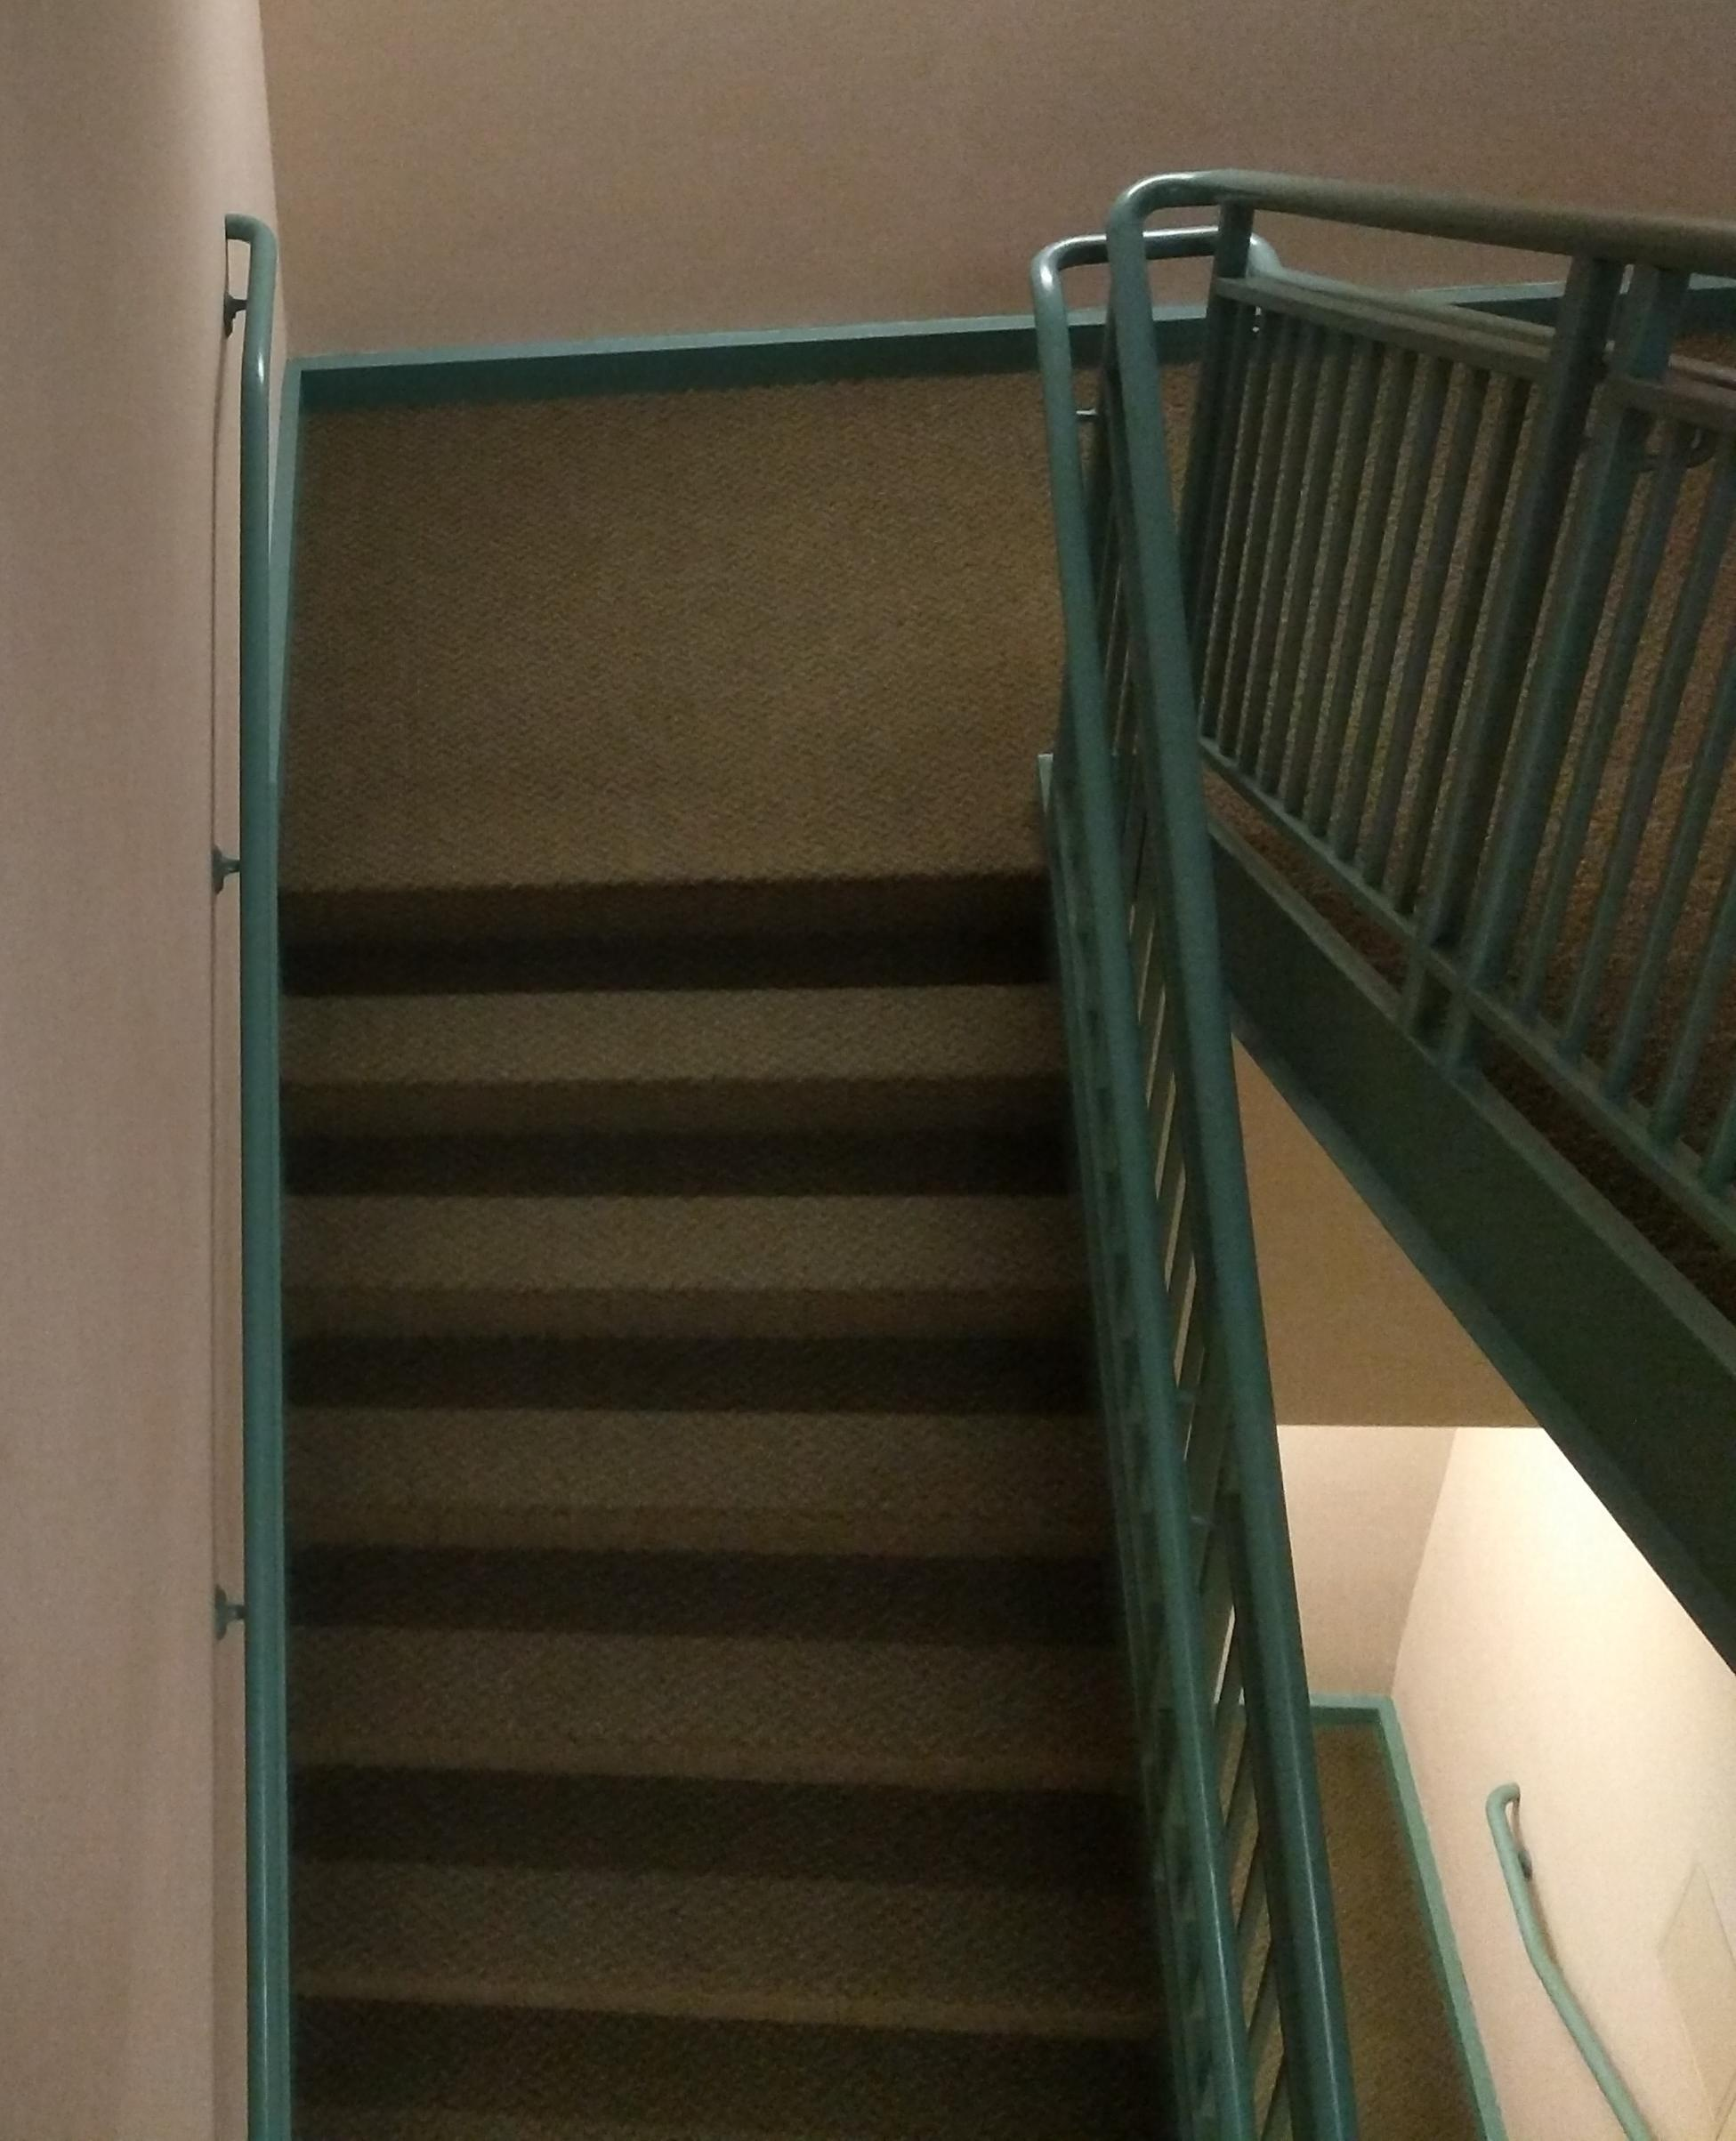stairs_up: (271, 855, 1183, 2091)
